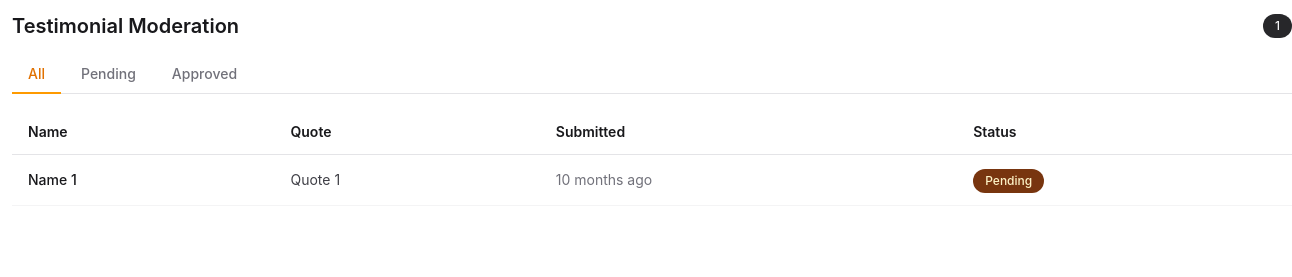
Test: shows empty state for a filter with no matches
The image size is (1292, 277).
Step 1. Click the tab with aria-label "filter testimonials by approved" → (204, 75), box [156, 56, 253, 94]
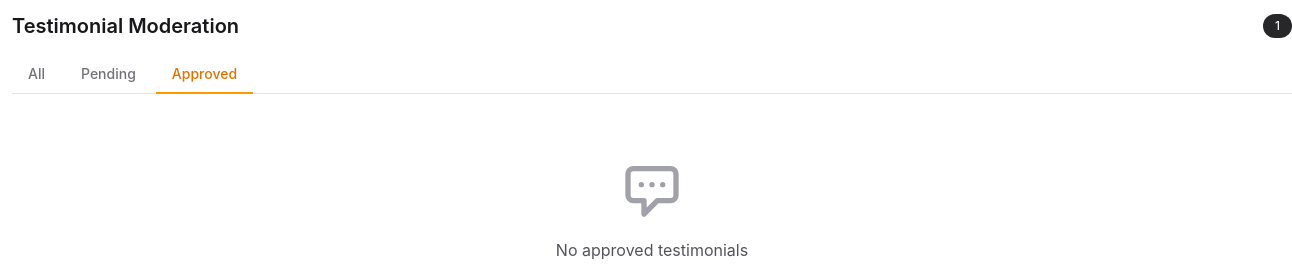
Check: the text "No approved testimonials" is shown, box [556, 240, 748, 260]
